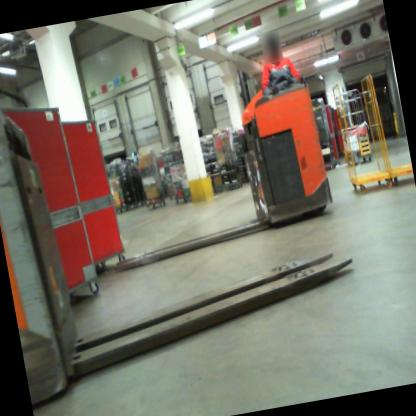pallet_truck: (0, 16, 371, 407), (78, 66, 340, 282)
